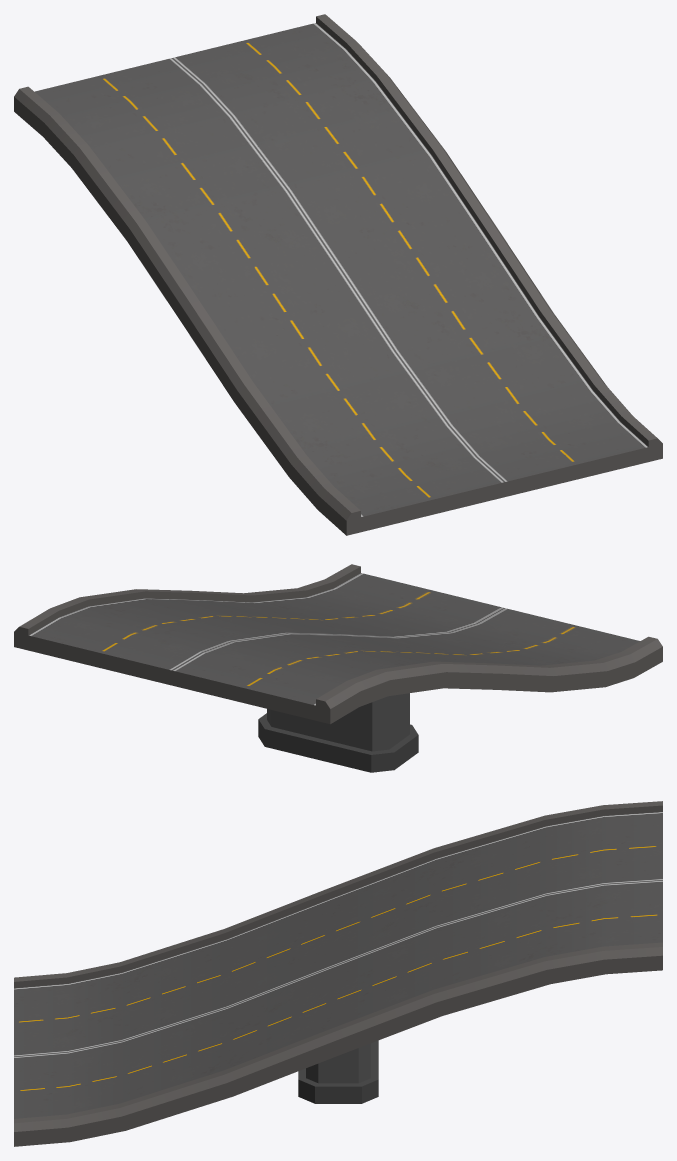
Rendered from SM_Floor_Road_25.fbx.
The picture shows the model from 3 angles, top to bottom: view 1: azimuth 30°, elevation 25°; view 2: azimuth 150°, elevation 25°; view 3: azimuth 270°, elevation 25°; orthographic projection. The views are drawn at different scales.
Visible parts, largest first — view 1: SM_Floor_Road_25; view 2: SM_Floor_Road_25; view 3: SM_Floor_Road_25.
Part boxes in pixels (left/top/right/bottom): SM_Floor_Road_25: left=14, top=14, right=662, bottom=535; SM_Floor_Road_25: left=14, top=564, right=662, bottom=772; SM_Floor_Road_25: left=14, top=801, right=662, bottom=1146.
Size of the model in its own units: 10.99 by 6.72 by 20.
